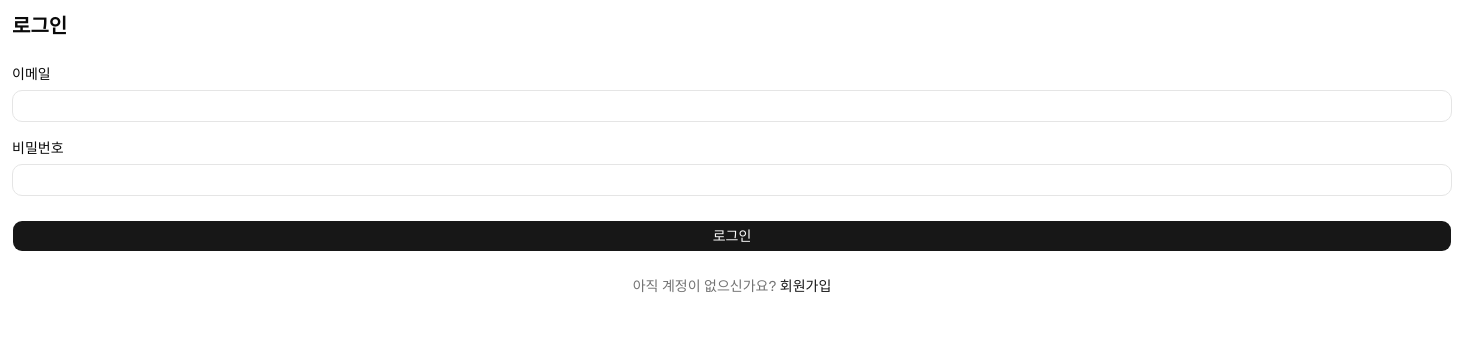
Test: LoginForm › 빈 채로 제출하면 클라이언트 검증 에러를 보여주고 API를 부르지 않는다
Click the button "로그인" at (732, 236), box left=12, top=220, right=1452, bottom=252
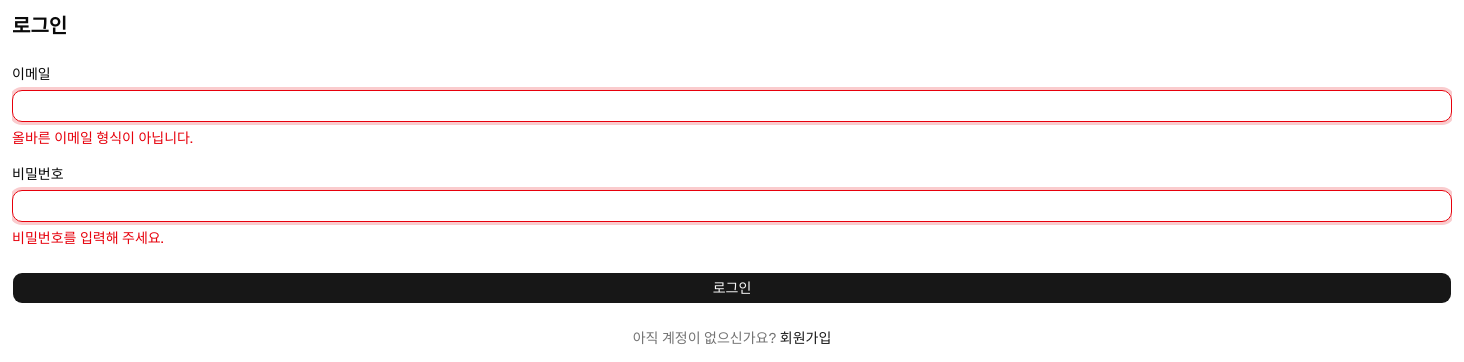
Expected: the text "올바른 이메일 형식이 아닙니다." is shown, left=12, top=129, right=193, bottom=147
Expected: the text "비밀번호를 입력해 주세요." is shown, left=12, top=229, right=164, bottom=247
